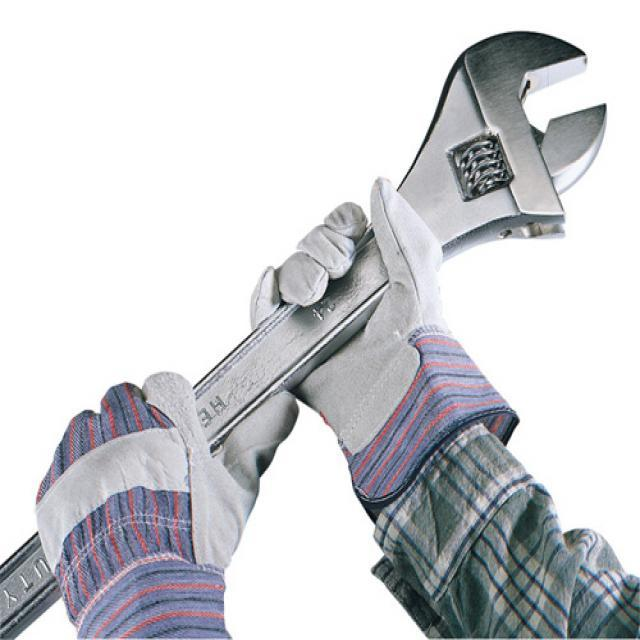wrench: (190, 19, 614, 447)
